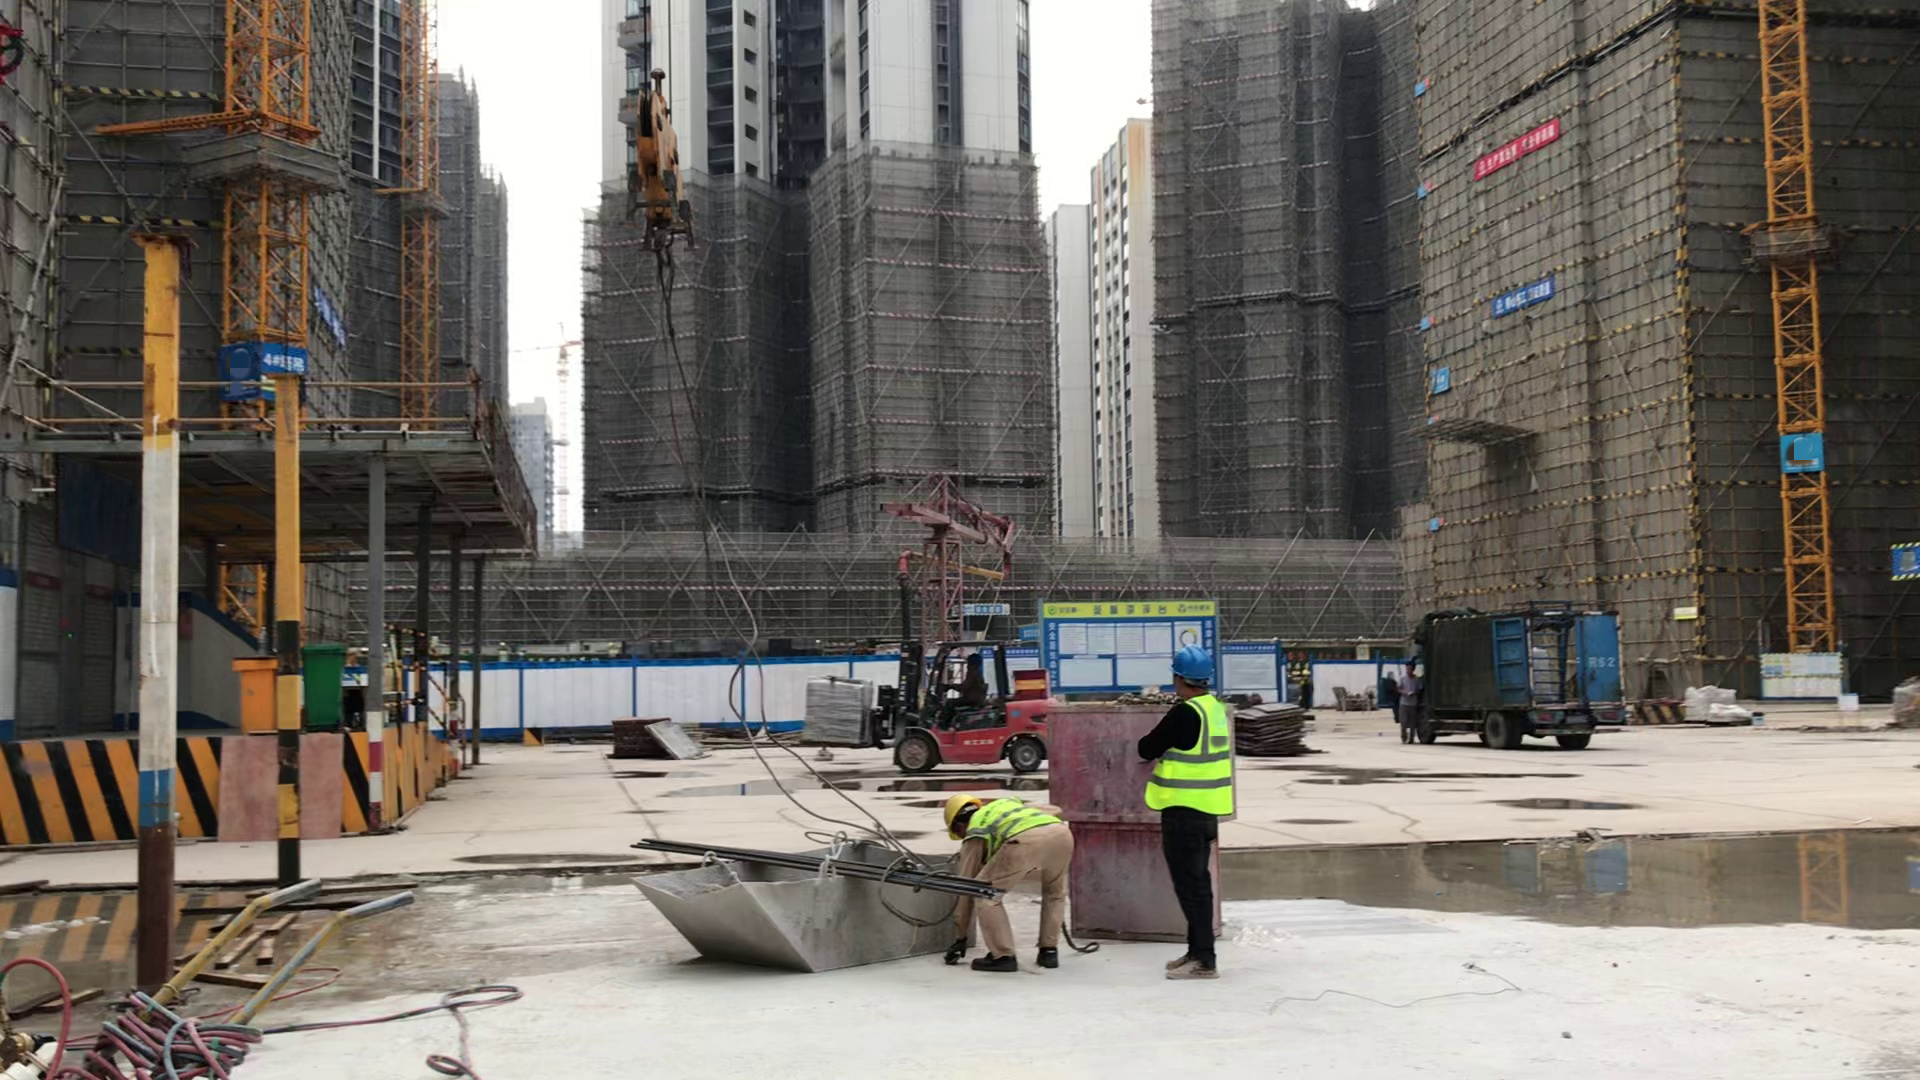board: (1231, 694, 1315, 755), (635, 712, 708, 762)
brick: (798, 669, 883, 747)
fence: (369, 646, 490, 773)
handcart: (3, 841, 444, 1080)
helmet: (1156, 636, 1224, 686), (928, 787, 987, 845), (960, 648, 989, 669)
hook: (603, 49, 726, 285)
hopper: (610, 828, 1011, 1001)
person: (1139, 626, 1256, 1003), (927, 762, 1097, 993), (1385, 649, 1435, 756), (938, 649, 1000, 734)
rebar: (626, 827, 1041, 912)
slogan: (1033, 589, 1227, 692), (208, 331, 315, 401), (1460, 119, 1565, 189), (299, 272, 361, 364), (1483, 277, 1572, 334), (1760, 414, 1827, 489), (1867, 535, 1920, 597), (945, 593, 1025, 624), (1422, 359, 1460, 397)
vest: (1140, 691, 1248, 828), (953, 787, 1071, 865)
